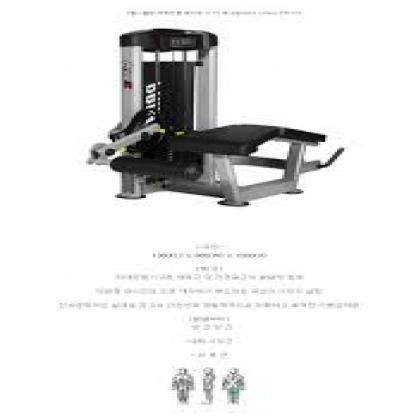reg curl machine: (74, 30, 353, 211)
